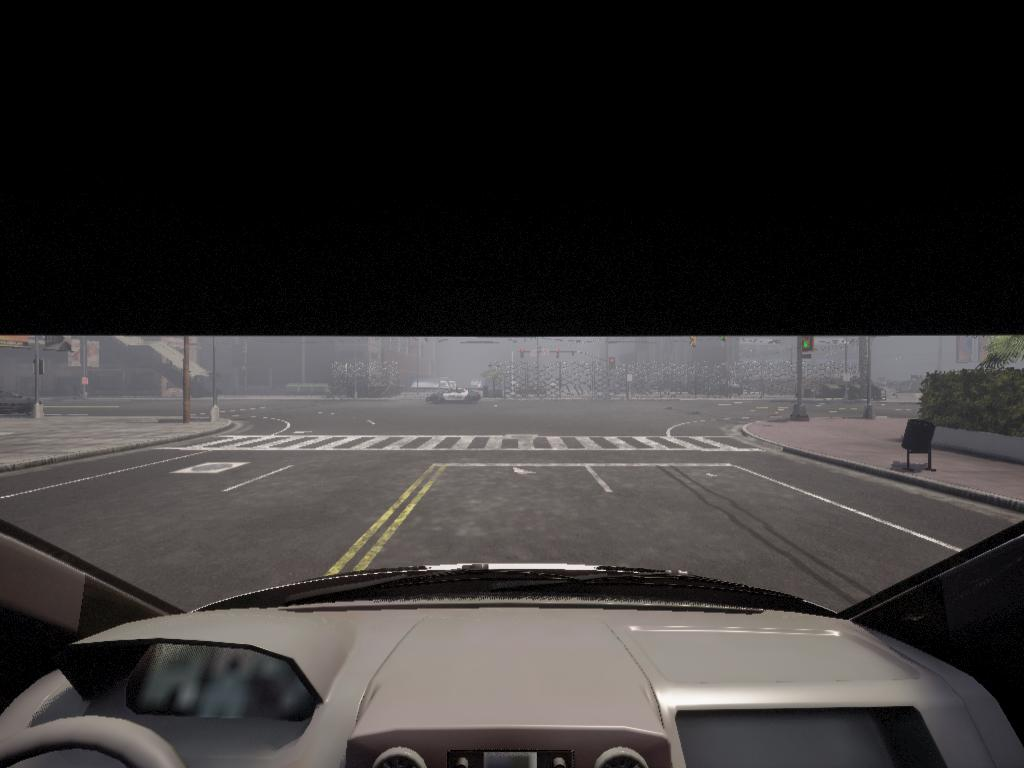traffic_light: (803, 341, 815, 355), (609, 358, 618, 374), (519, 348, 528, 361), (691, 337, 699, 351), (719, 336, 729, 346), (557, 348, 562, 363), (538, 348, 544, 358)
